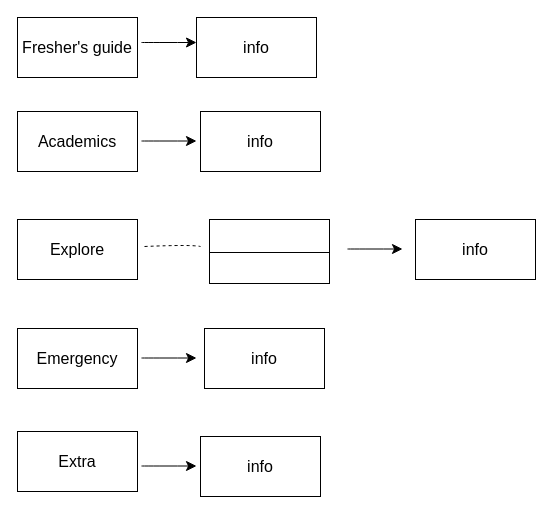
This 553x514 diagram has some shape labels left out. The centre of each missing label's shape, as x and y in pixels:
campus: pixel 269 235
city: pixel 269 268
